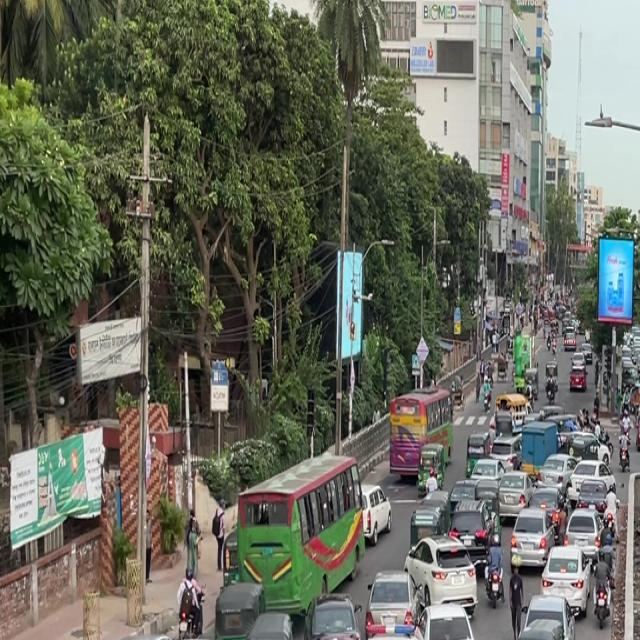bus: (245, 442, 369, 603), (387, 384, 456, 478)
car: (424, 539, 480, 621), (363, 559, 419, 640), (539, 539, 592, 622), (414, 590, 484, 640), (509, 508, 551, 580), (328, 617, 441, 640), (565, 502, 602, 565), (496, 466, 532, 525), (537, 454, 572, 508), (569, 466, 604, 514), (82, 628, 174, 640)
motorbike: (591, 541, 614, 599), (591, 568, 611, 630), (484, 552, 504, 609), (602, 488, 621, 540), (477, 511, 496, 558)
rickshaw: (210, 574, 264, 640), (509, 595, 573, 640), (237, 612, 301, 640), (148, 634, 223, 640)
